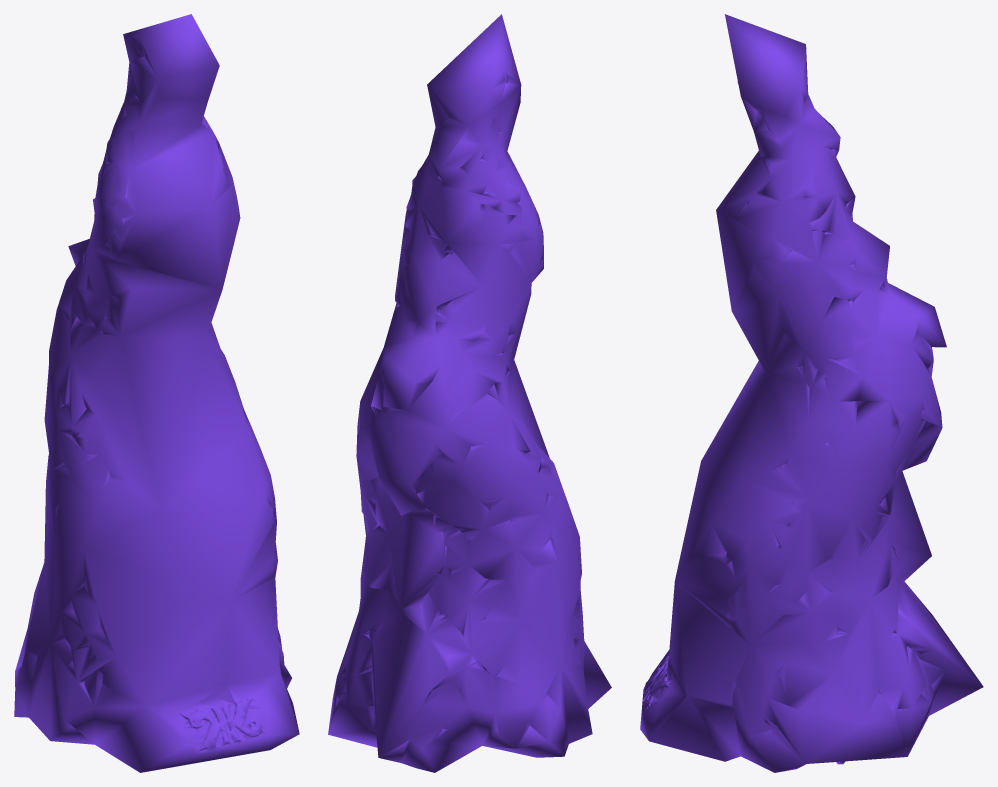
The model's file is large-suction-ar.glb.
The picture shows the model from 3 angles, left to right: view 1: azimuth 30°, elevation 25°; view 2: azimuth 150°, elevation 25°; view 3: azimuth 270°, elevation 25°; orthographic projection. The views are drawn at different scales.
Size of the model in its own units: 0.1095 by 0.3015 by 0.1342.
